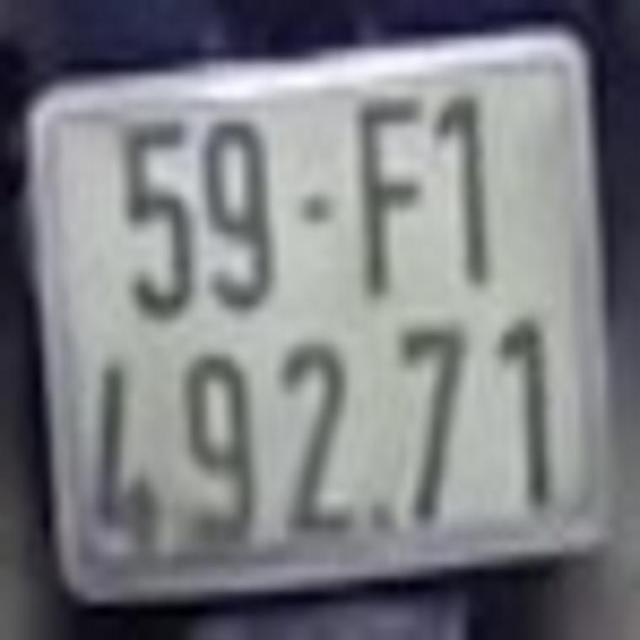1: (501, 304, 558, 508), (437, 97, 494, 282)
2: (274, 344, 362, 530)
4: (97, 348, 162, 554)
5: (112, 114, 196, 323)
7: (395, 313, 465, 528)
9: (176, 357, 256, 540), (204, 122, 278, 305)
F: (353, 97, 423, 298)
